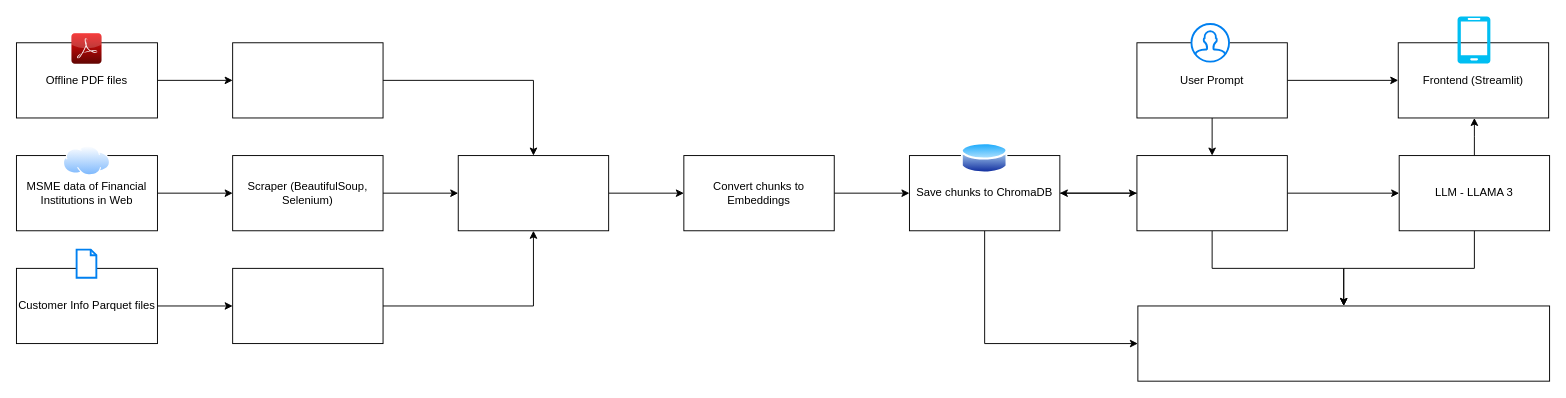
The diagram is 1566 pixels wide and 398 high, and some of its shapes have lost their labels. Here are the shapes that lost their labels. From the top down, the centre of each, then its label:
the point at 307,80: PDF Loader (PyPDF)
the point at 533,193: Text splitter and convert to chunks
the point at 1211,193: Retriever & Reranking
the point at 307,305: Parquet Reader (Pandas)
the point at 1343,343: Audit Tracing (Langsmith)
